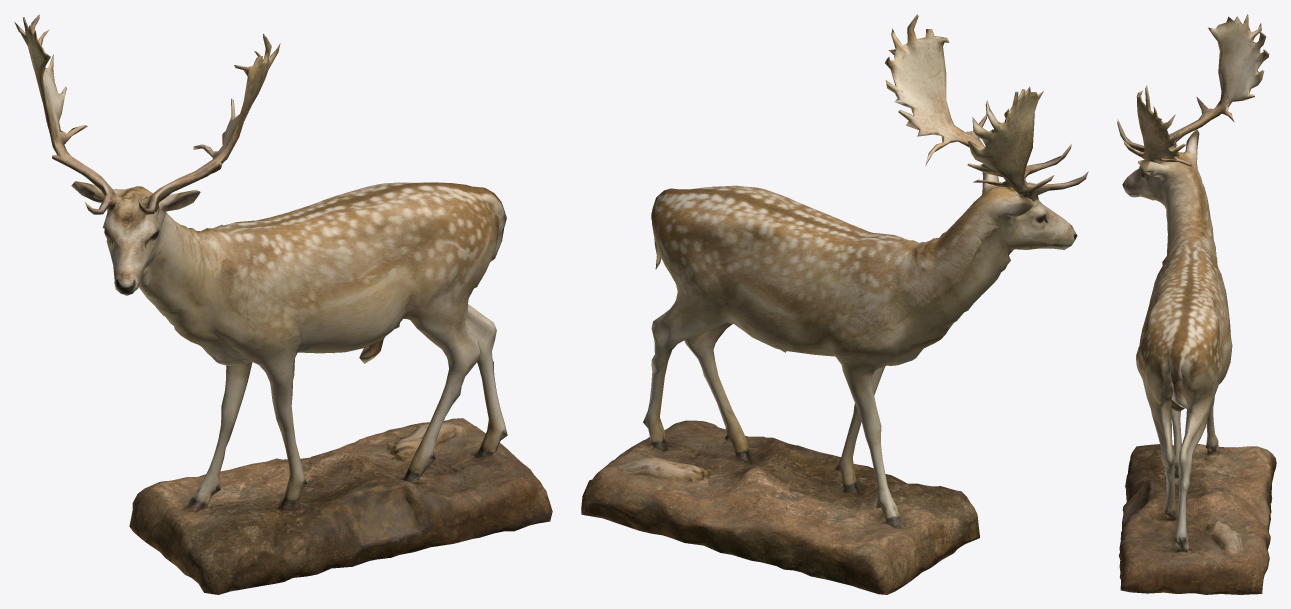
Rendered from DeerTaxidermic.fbx.
3 renders of one model, left to right at view 1: azimuth 30°, elevation 25°; view 2: azimuth 150°, elevation 25°; view 3: azimuth 270°, elevation 25°, orthographic. The views are drawn at different scales.
Parts seen in each view (by area): view 1: M32070_FallowDeer_forSK_02; view 2: M32070_FallowDeer_forSK_02; view 3: M32070_FallowDeer_forSK_02.
Boxes of the visible parts, x1,y1,x2,y2 form: M32070_FallowDeer_forSK_02: [14, 14, 552, 594]; M32070_FallowDeer_forSK_02: [581, 14, 1088, 594]; M32070_FallowDeer_forSK_02: [1117, 14, 1276, 594].
Size of the model in its own units: 305 by 346 by 121.
